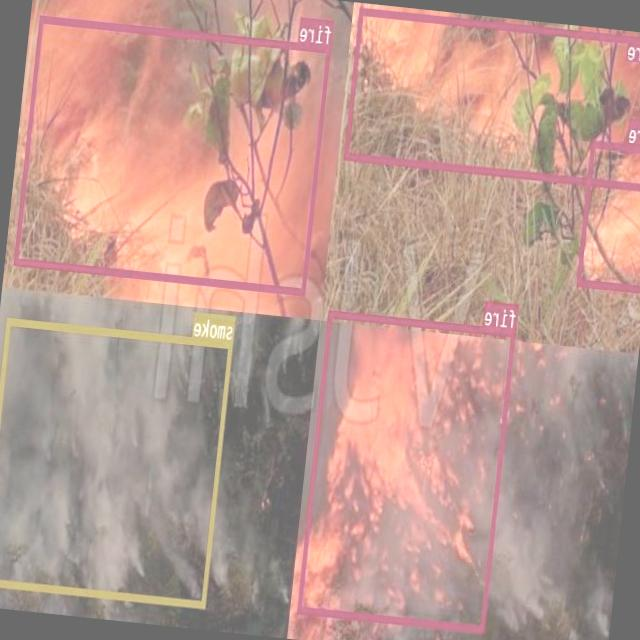fire: (15, 13, 332, 294), (298, 309, 516, 632), (344, 6, 640, 189), (577, 138, 640, 292)
smoke: (0, 316, 233, 606)
